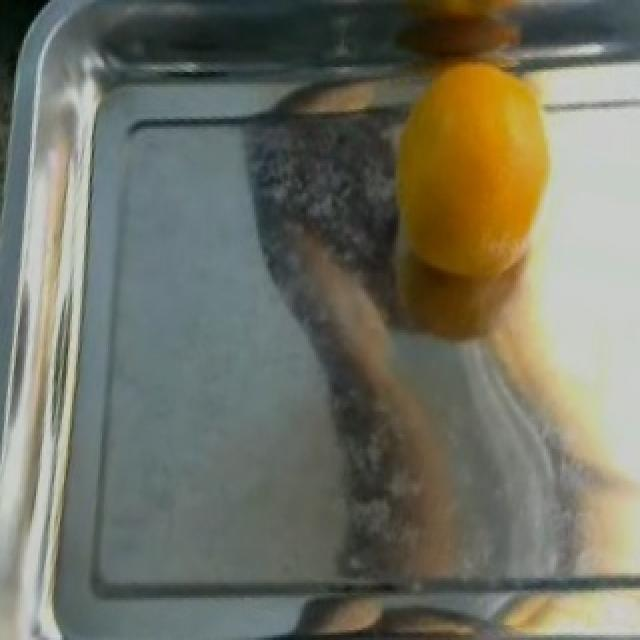Fruit: (374, 35, 574, 310), (484, 588, 640, 640)
